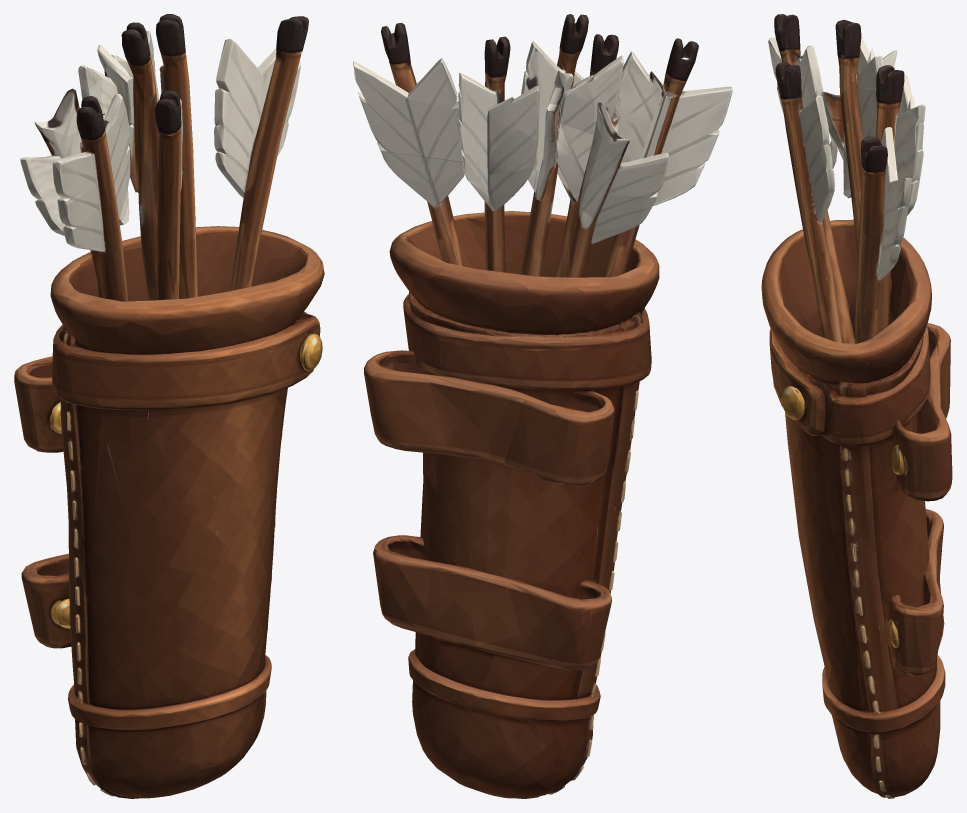
Rendered from quiver-original.glb.
3 renders of one model, left to right at view 1: azimuth 30°, elevation 25°; view 2: azimuth 150°, elevation 25°; view 3: azimuth 270°, elevation 25°, orthographic. The views are drawn at different scales.
Parts seen in each view (by area): view 1: output_unwrapped; view 2: output_unwrapped; view 3: output_unwrapped.
Boxes of the visible parts, bbox=[...] form: output_unwrapped: bbox=[14, 14, 324, 798]; output_unwrapped: bbox=[353, 14, 732, 798]; output_unwrapped: bbox=[761, 14, 952, 798].
Size of the model in its own units: 0.7997 by 1.9 by 0.4456.
Materials: 1 (1 with a texture image).
